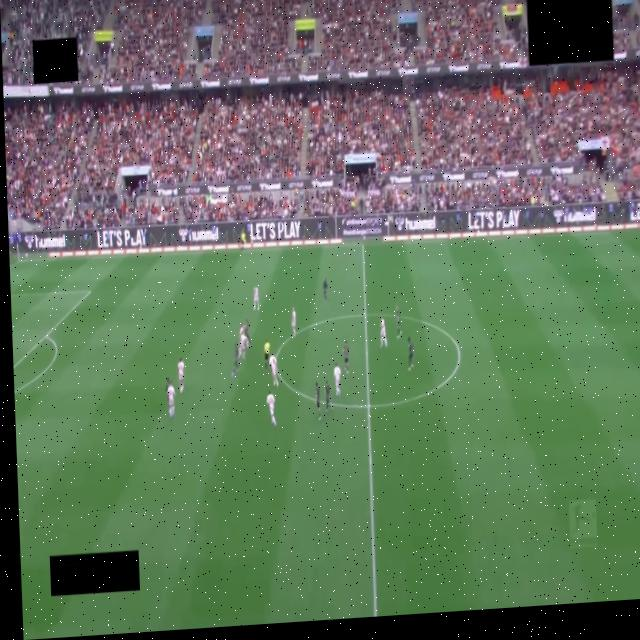player: (166, 378, 175, 418), (177, 356, 185, 393), (267, 391, 275, 426), (269, 355, 278, 386), (231, 344, 239, 377), (334, 363, 341, 396), (315, 382, 321, 420), (325, 380, 332, 411), (239, 329, 246, 359), (380, 318, 387, 347), (408, 338, 413, 371), (344, 341, 349, 374), (244, 320, 250, 347), (396, 306, 401, 338), (291, 307, 296, 336), (253, 288, 259, 311), (323, 278, 328, 302)
referee: (264, 342, 270, 368)
